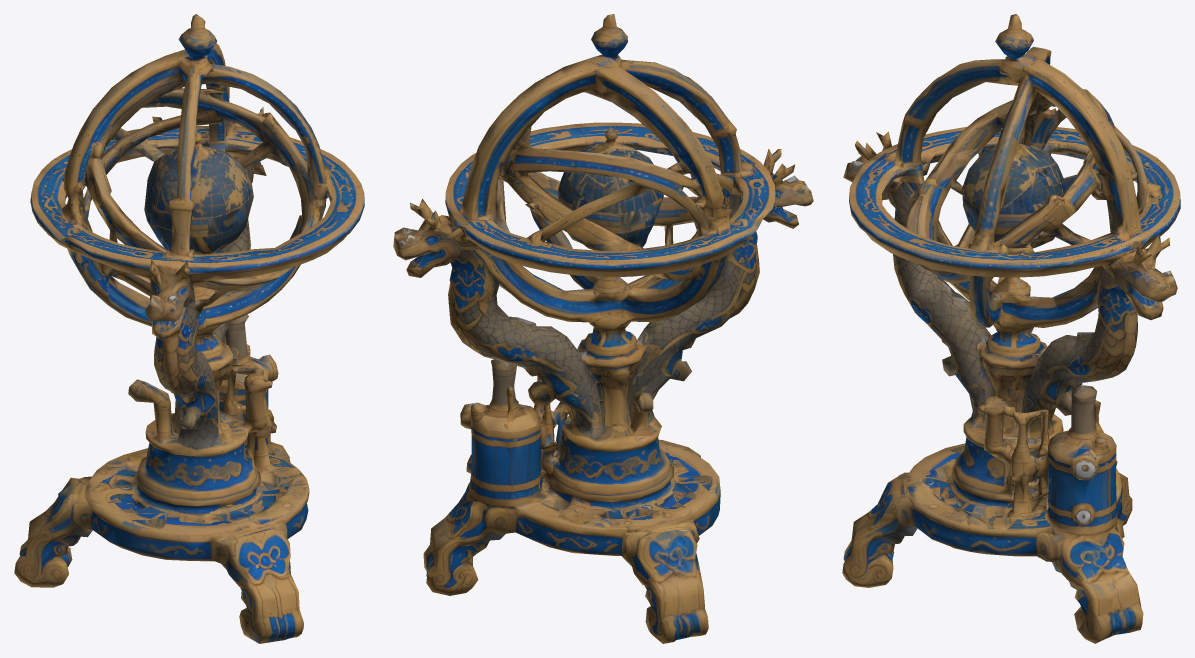
The model's file is PR_Honcheonui.fbx.
The picture shows the model from 3 angles, left to right: view 1: azimuth 30°, elevation 25°; view 2: azimuth 150°, elevation 25°; view 3: azimuth 270°, elevation 25°; orthographic projection.
Parts seen in each view (by area): view 1: texture_mapping; view 2: texture_mapping; view 3: texture_mapping.
Part boxes in pixels (left/top/right/bottom): texture_mapping: left=14, top=14, right=364, bottom=643; texture_mapping: left=393, top=14, right=813, bottom=643; texture_mapping: left=842, top=14, right=1180, bottom=643.
Size of the model in its own units: 0.5343 by 0.5454 by 1.
1 material, 1 textured.
